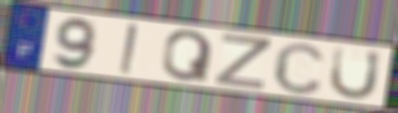9: (53, 16, 99, 71)
C: (270, 40, 328, 97)
I: (117, 21, 140, 77)
Q: (160, 28, 215, 84)
U: (326, 44, 384, 101)
Z: (212, 32, 273, 92)
